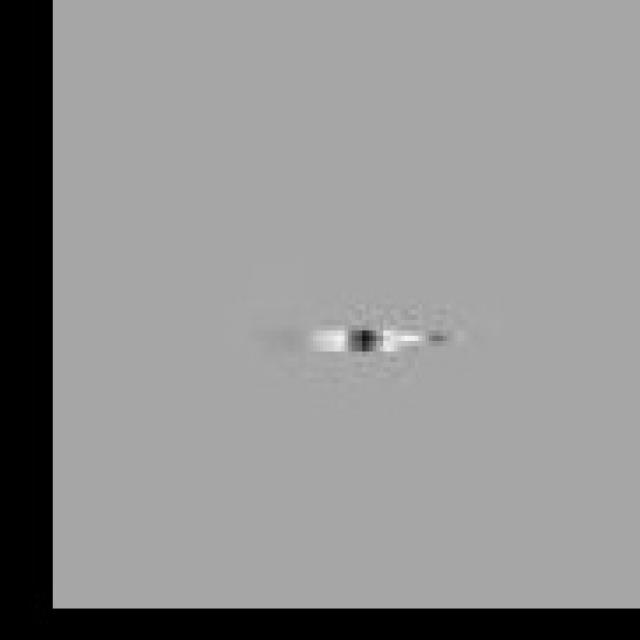Defect5: (294, 240, 482, 452)
